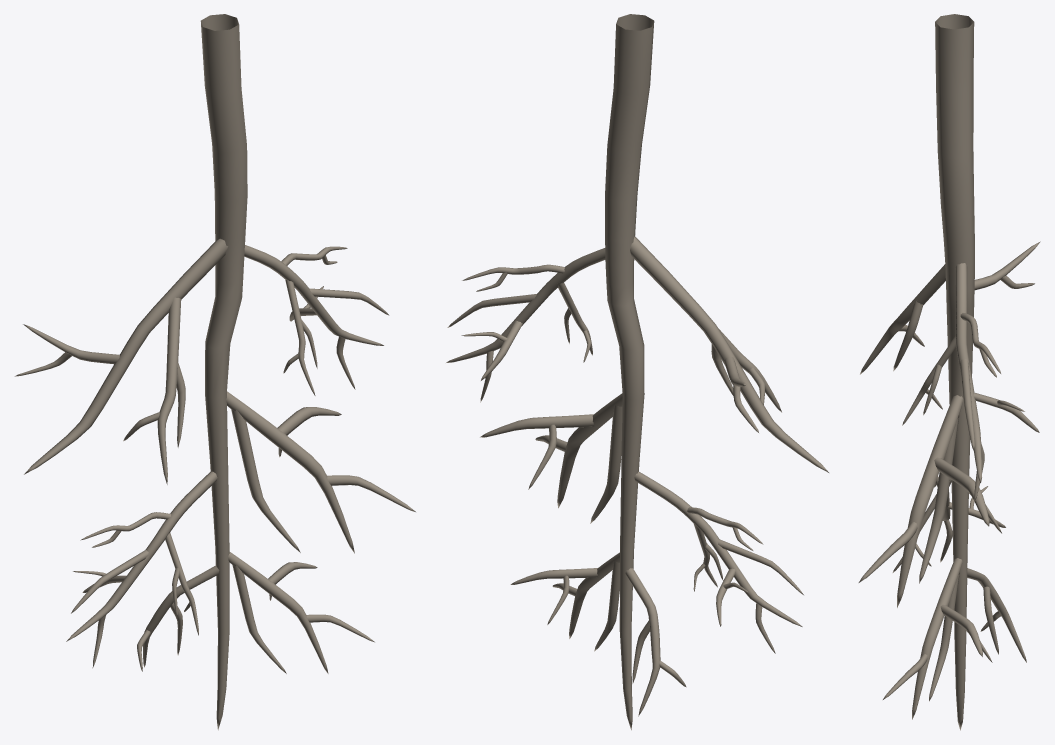
Rendered from prop_deadtree_a.glb.
3 renders of one model, left to right at view 1: azimuth 30°, elevation 25°; view 2: azimuth 150°, elevation 25°; view 3: azimuth 270°, elevation 25°, orthographic.
Visible parts, largest first — view 1: DeadTree_2; view 2: DeadTree_2; view 3: DeadTree_2.
Boxes of the visible parts, x1,y1,x2,y2 form: DeadTree_2: (14, 14, 415, 730); DeadTree_2: (446, 14, 828, 730); DeadTree_2: (858, 14, 1040, 730).
Size of the model in its own units: 3.42 by 6.2 by 1.45.
